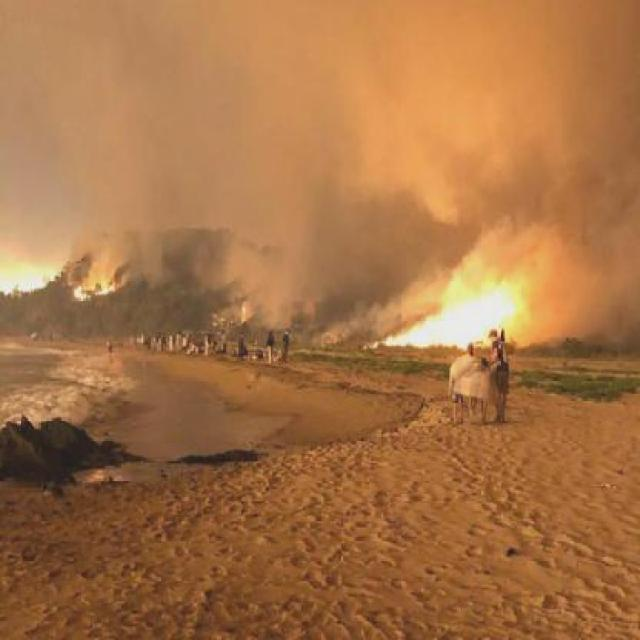Fire: (438, 287, 520, 355), (412, 316, 454, 346), (96, 276, 118, 296), (72, 284, 90, 302), (237, 300, 250, 322), (388, 333, 408, 347)
Smoke: (298, 184, 638, 284), (154, 222, 240, 286), (318, 280, 422, 322)
